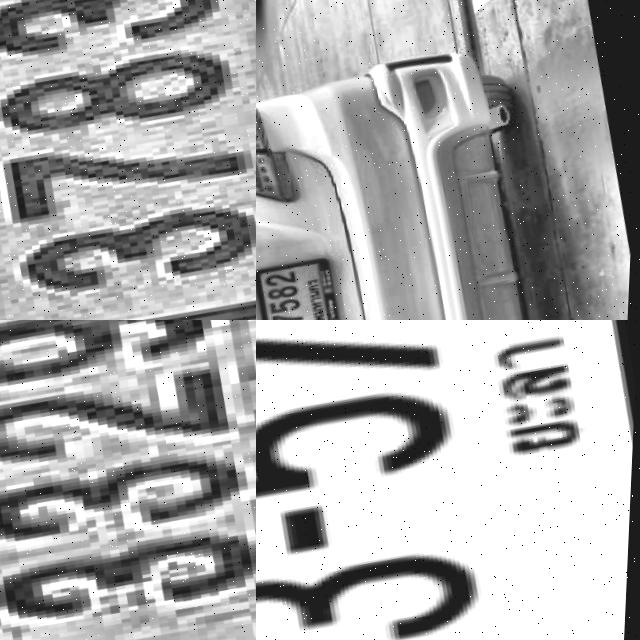license-plate: (256, 320, 640, 640), (0, 0, 256, 320), (0, 320, 256, 640), (256, 247, 362, 320)
